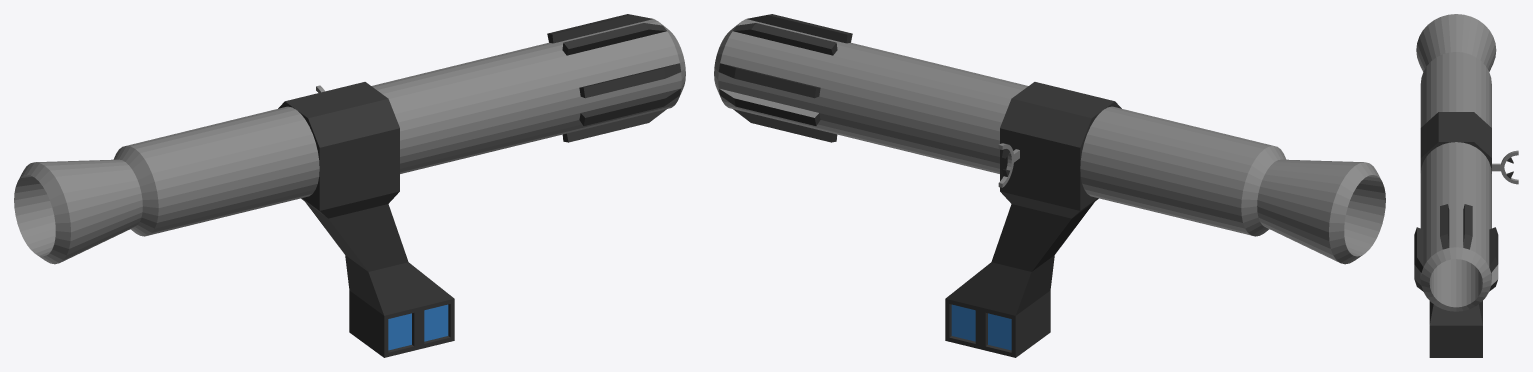
Rendered from RocketLauncher.fbx.
The picture shows the model from 3 angles, left to right: view 1: azimuth 30°, elevation 25°; view 2: azimuth 150°, elevation 25°; view 3: azimuth 270°, elevation 25°; orthographic projection. The views are drawn at different scales.
Visible parts, largest first — view 1: Cube.002; view 2: Cube.002; view 3: Cube.002.
Part boxes in pixels (box(x1,y1,x2,y2)): Cube.002: box(14, 14, 685, 357); Cube.002: box(714, 14, 1385, 357); Cube.002: box(1414, 14, 1518, 357).
Size of the model in its own units: 157 by 61.77 by 29.27.
